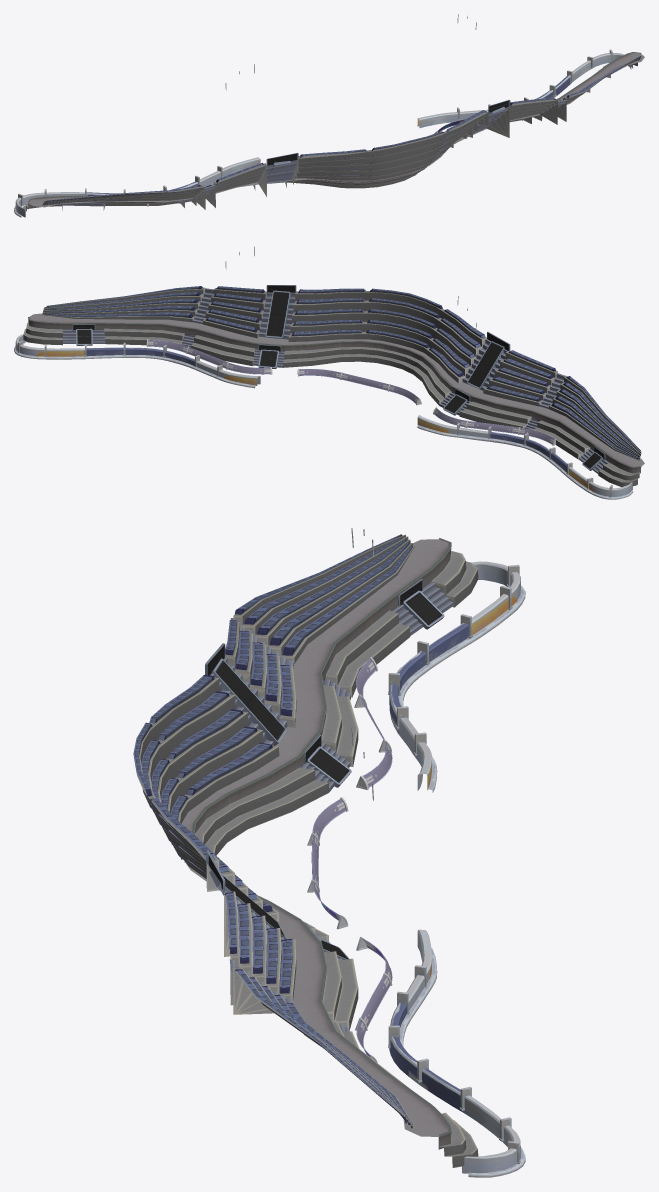
The model's file is pref_sm_beach_bk_winter_pointmol_topbuild03_lv2.fbx.
3 views of the same model, one above another, from view 1: azimuth 30°, elevation 25°; view 2: azimuth 150°, elevation 25°; view 3: azimuth 270°, elevation 25° (orthographic). The views are drawn at different scales.
Visible parts, largest first — view 1: sm_beach_bk_winter_pointmol_topbuild03c_lv2, sm_beach_bk_winter_pointmol_topbuild03a_lv2, sm_beach_bk_winter_pointmol_topbuild03e_lv2, sm_beach_bk_winter_pointmol_topbuild03d_lv2; view 2: sm_beach_bk_winter_pointmol_topbuild03e_lv2, sm_beach_bk_winter_pointmol_topbuild03c_lv2, sm_beach_bk_winter_pointmol_topbuild03a_lv2, sm_beach_bk_winter_pointmol_topbuild03d_lv2, sm_beach_bk_winter_pointmol_topbuild03b_lv2; view 3: sm_beach_bk_winter_pointmol_topbuild03a_lv2, sm_beach_bk_winter_pointmol_topbuild03c_lv2, sm_beach_bk_winter_pointmol_topbuild03e_lv2, sm_beach_bk_winter_pointmol_topbuild03d_lv2, sm_beach_bk_winter_pointmol_topbuild03b_lv2.
Part boxes in pixels (left/top/right/bottom): sm_beach_bk_winter_pointmol_topbuild03c_lv2: left=285, top=110, right=488, bottom=188; sm_beach_bk_winter_pointmol_topbuild03a_lv2: left=23, top=153, right=298, bottom=215; sm_beach_bk_winter_pointmol_topbuild03e_lv2: left=466, top=52, right=644, bottom=137; sm_beach_bk_winter_pointmol_topbuild03d_lv2: left=14, top=14, right=632, bottom=217; sm_beach_bk_winter_pointmol_topbuild03e_lv2: left=23, top=285, right=296, bottom=368; sm_beach_bk_winter_pointmol_topbuild03c_lv2: left=283, top=288, right=486, bottom=405; sm_beach_bk_winter_pointmol_topbuild03a_lv2: left=439, top=332, right=644, bottom=487; sm_beach_bk_winter_pointmol_topbuild03d_lv2: left=14, top=246, right=633, bottom=499; sm_beach_bk_winter_pointmol_topbuild03b_lv2: left=146, top=339, right=556, bottom=445; sm_beach_bk_winter_pointmol_topbuild03a_lv2: left=205, top=534, right=478, bottom=792; sm_beach_bk_winter_pointmol_topbuild03c_lv2: left=133, top=675, right=328, bottom=941; sm_beach_bk_winter_pointmol_topbuild03e_lv2: left=206, top=850, right=478, bottom=1167; sm_beach_bk_winter_pointmol_topbuild03d_lv2: left=351, top=528, right=525, bottom=1177; sm_beach_bk_winter_pointmol_topbuild03b_lv2: left=307, top=657, right=392, bottom=1062.
Bounding box in the file's own units: 125 × 24.41 × 34.63.
